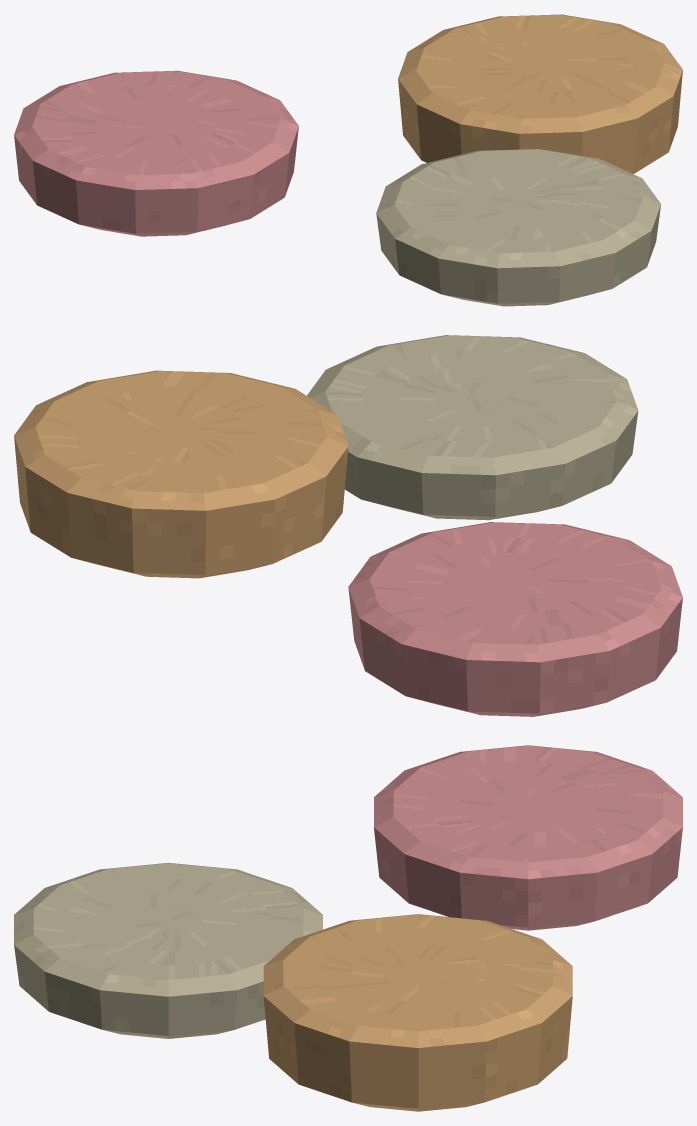
Rendered from neccowafers.glb.
The picture shows the model from 3 angles, top to bottom: view 1: azimuth 30°, elevation 25°; view 2: azimuth 150°, elevation 25°; view 3: azimuth 270°, elevation 25°; orthographic projection. The views are drawn at different scales.
Visible parts, largest first — view 1: block_moulded candy (×3); view 2: block_moulded candy (×3); view 3: block_moulded candy (×3).
Boxes of the visible parts, bbox=[...] form: block_moulded candy (×3): bbox=[14, 14, 682, 306]; block_moulded candy (×3): bbox=[14, 335, 682, 716]; block_moulded candy (×3): bbox=[14, 745, 682, 1111].
Bounding box in the file's own units: 0.0449 × 0.0061 × 0.0403.
1 material, 1 textured.
